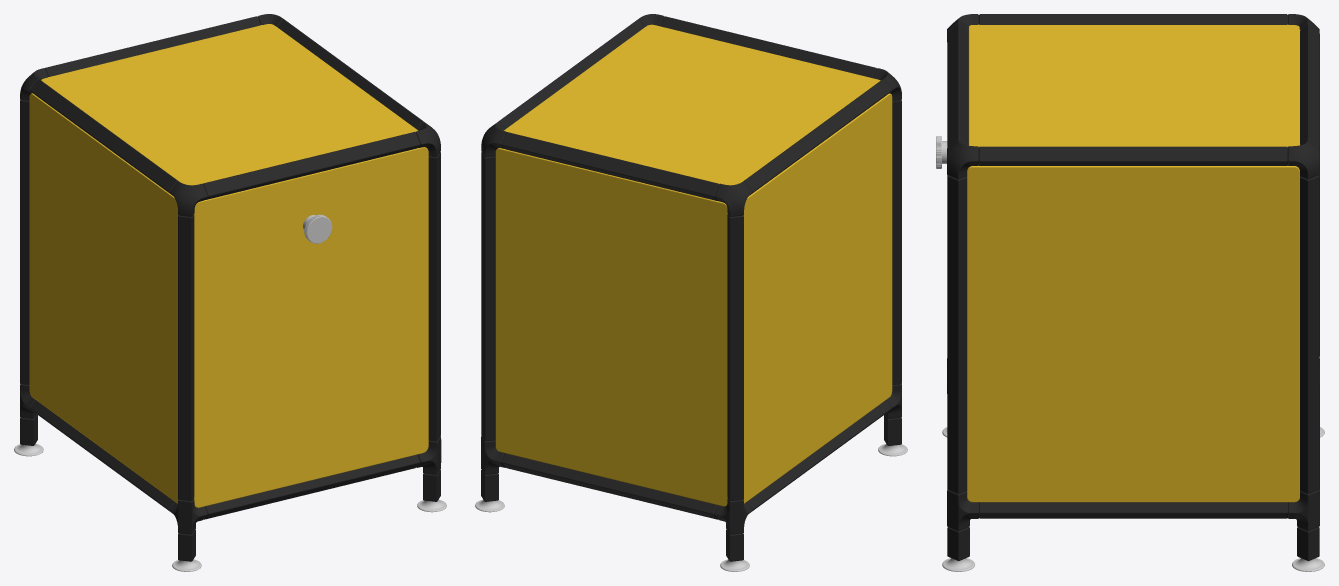
3 renders of one model, left to right at view 1: azimuth 30°, elevation 25°; view 2: azimuth 150°, elevation 25°; view 3: azimuth 270°, elevation 25°, orthographic. The views are drawn at different scales.
Parts seen in each view (by area): view 1: 329x374x420; view 2: 329x374x420; view 3: 329x374x420.
Boxes of the visible parts, x1=… form: 329x374x420: x1=14, y1=14, x2=446, y2=571; 329x374x420: x1=475, y1=14, x2=907, y2=571; 329x374x420: x1=936, y1=14, x2=1324, y2=571.
Size of the model in its own units: 0.4189 by 0.5593 by 0.4707.
